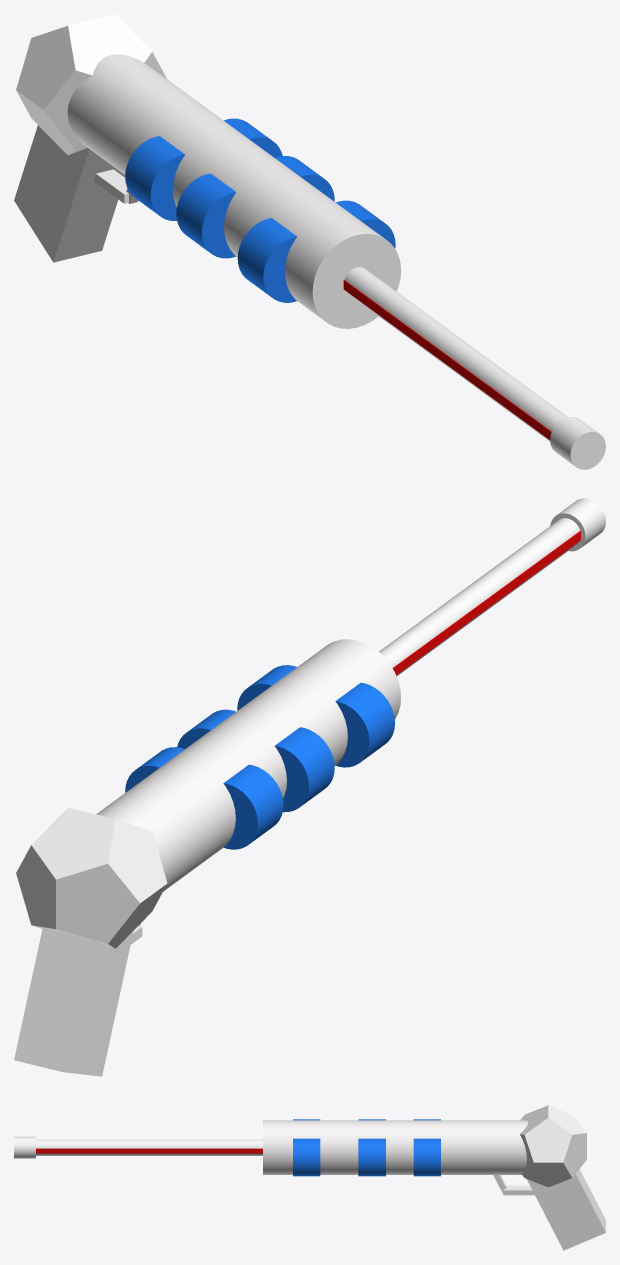
Rendered from gun-2.glb.
3 views of the same model, one above another, from view 1: azimuth 30°, elevation 25°; view 2: azimuth 150°, elevation 25°; view 3: azimuth 270°, elevation 25° (orthographic). The views are drawn at different scales.
Size of the model in its own units: 0.3 by 0.533 by 2.15.
